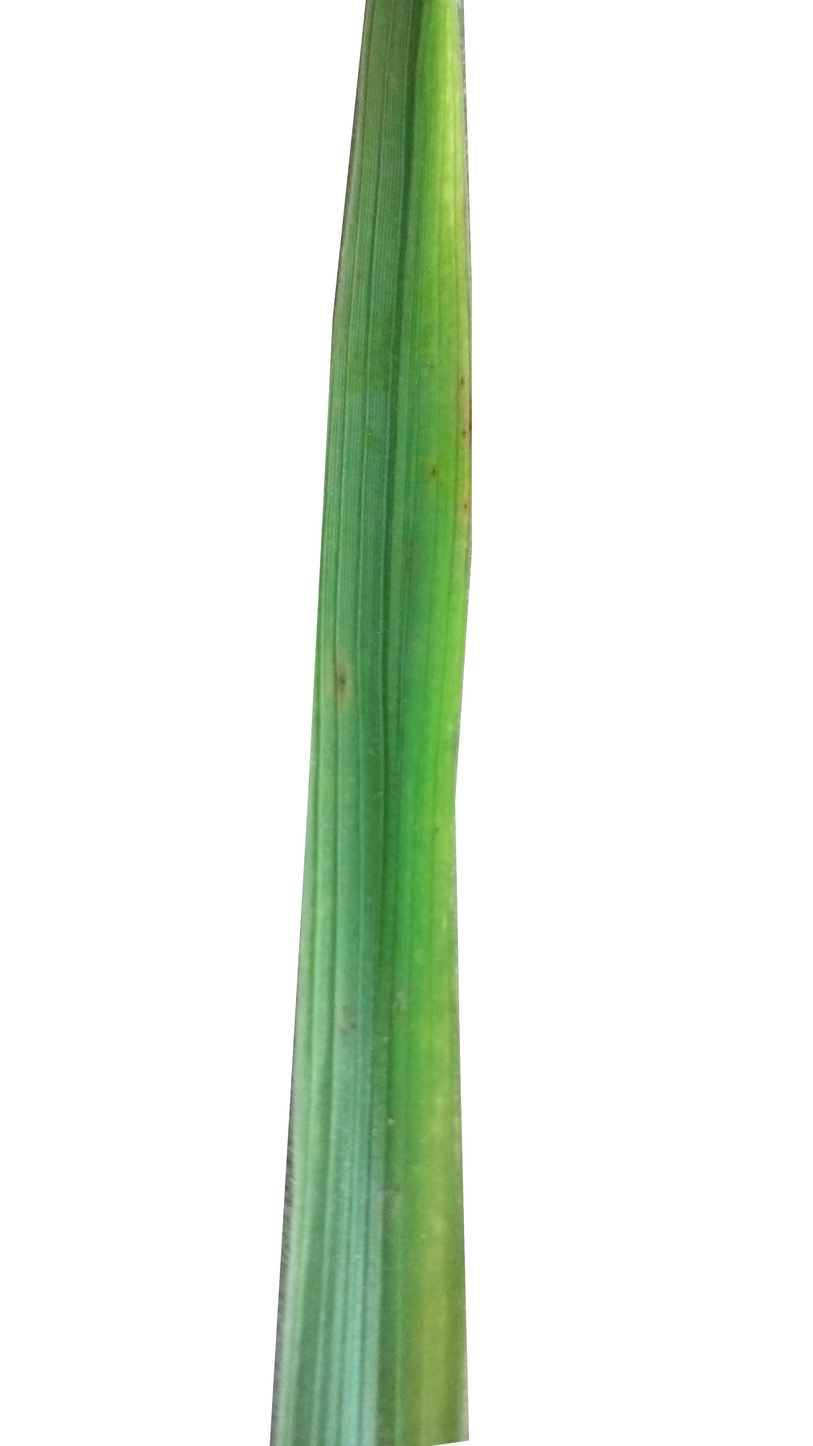Tungro: (389, 0, 473, 1436)
